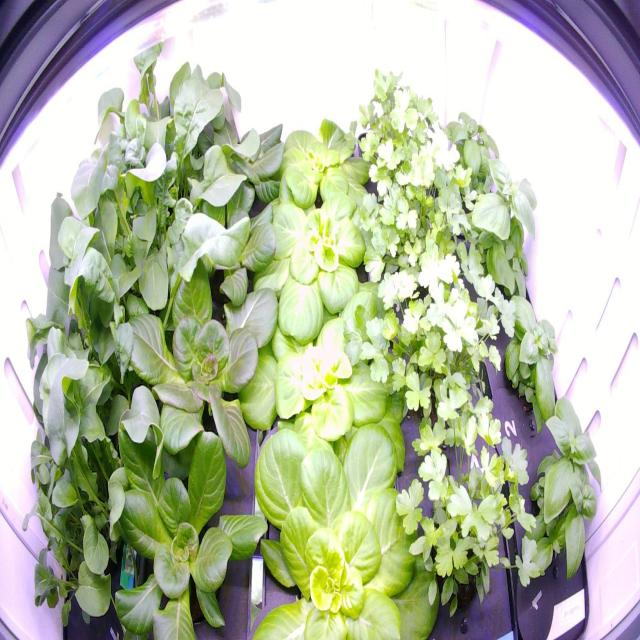young: (221, 401, 450, 639), (98, 376, 277, 640), (236, 260, 426, 508), (112, 235, 289, 484), (239, 174, 394, 353), (162, 154, 286, 320), (178, 88, 292, 242), (261, 103, 384, 239)
